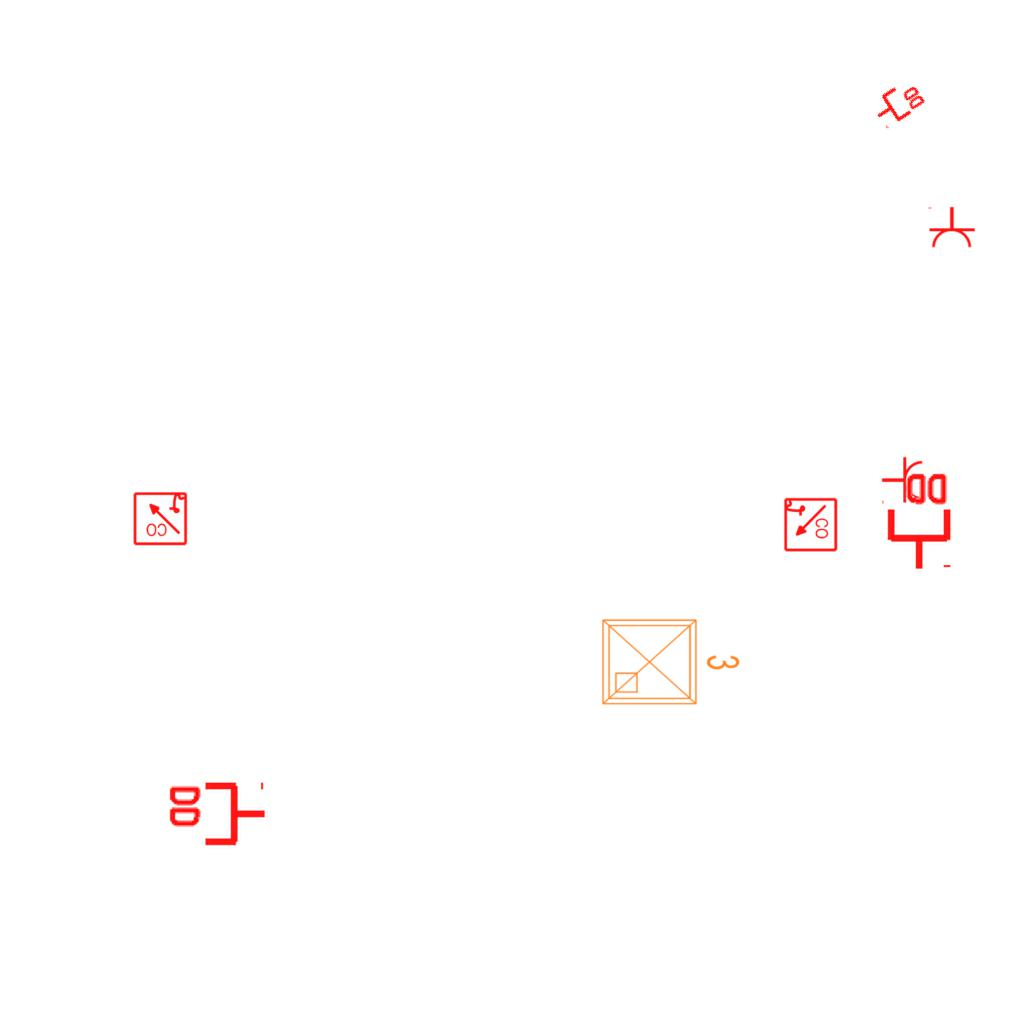Datenanschluss_zweifach: (165, 781, 268, 850), (883, 469, 952, 572), (867, 74, 929, 131)
Einbaudownlights_LED_Konferenzraeume: (595, 608, 745, 712)
ROA_Rauchmelder_optisch_mit_Signalgeber_(Sockelsirene): (132, 490, 188, 546), (782, 497, 838, 553)
Schukosteckdose_einfach: (926, 206, 976, 249), (881, 456, 924, 506)
